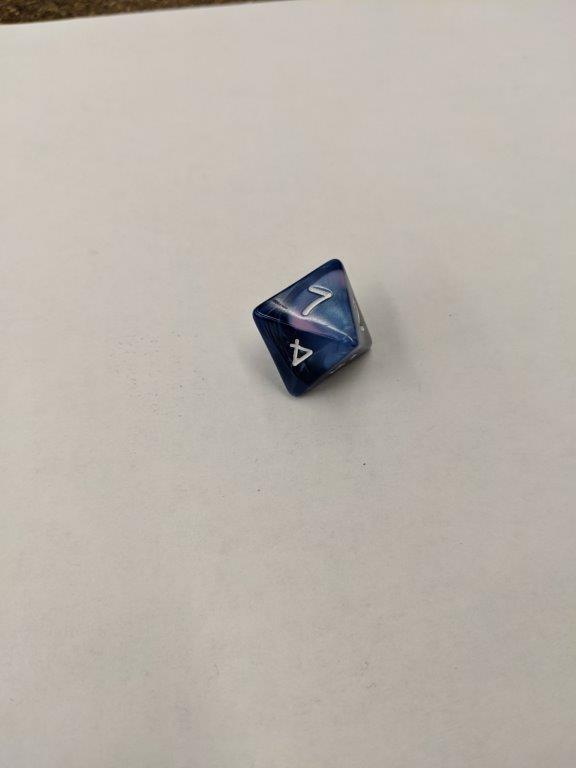d8-7: (250, 258, 371, 397)
